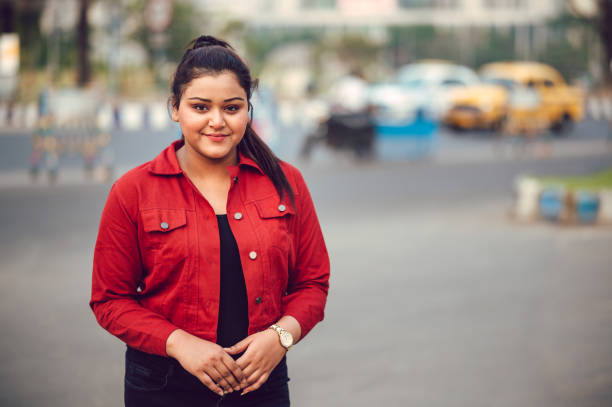Female: (100, 42, 326, 400)
